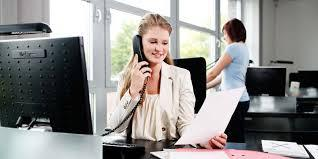Person: (111, 12, 226, 149), (206, 17, 250, 143)
